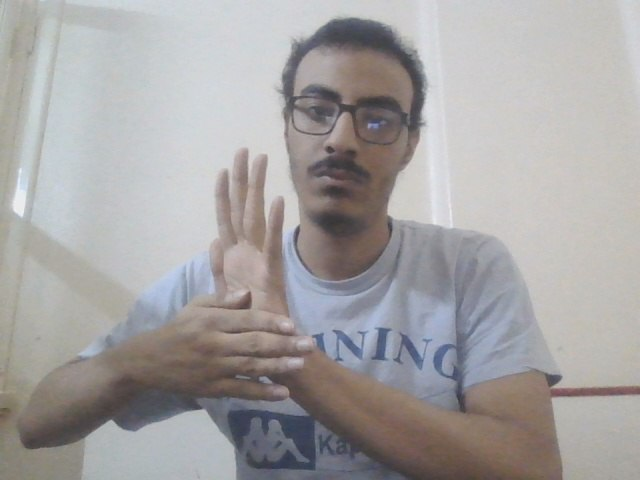Movie: (156, 145, 326, 415)
